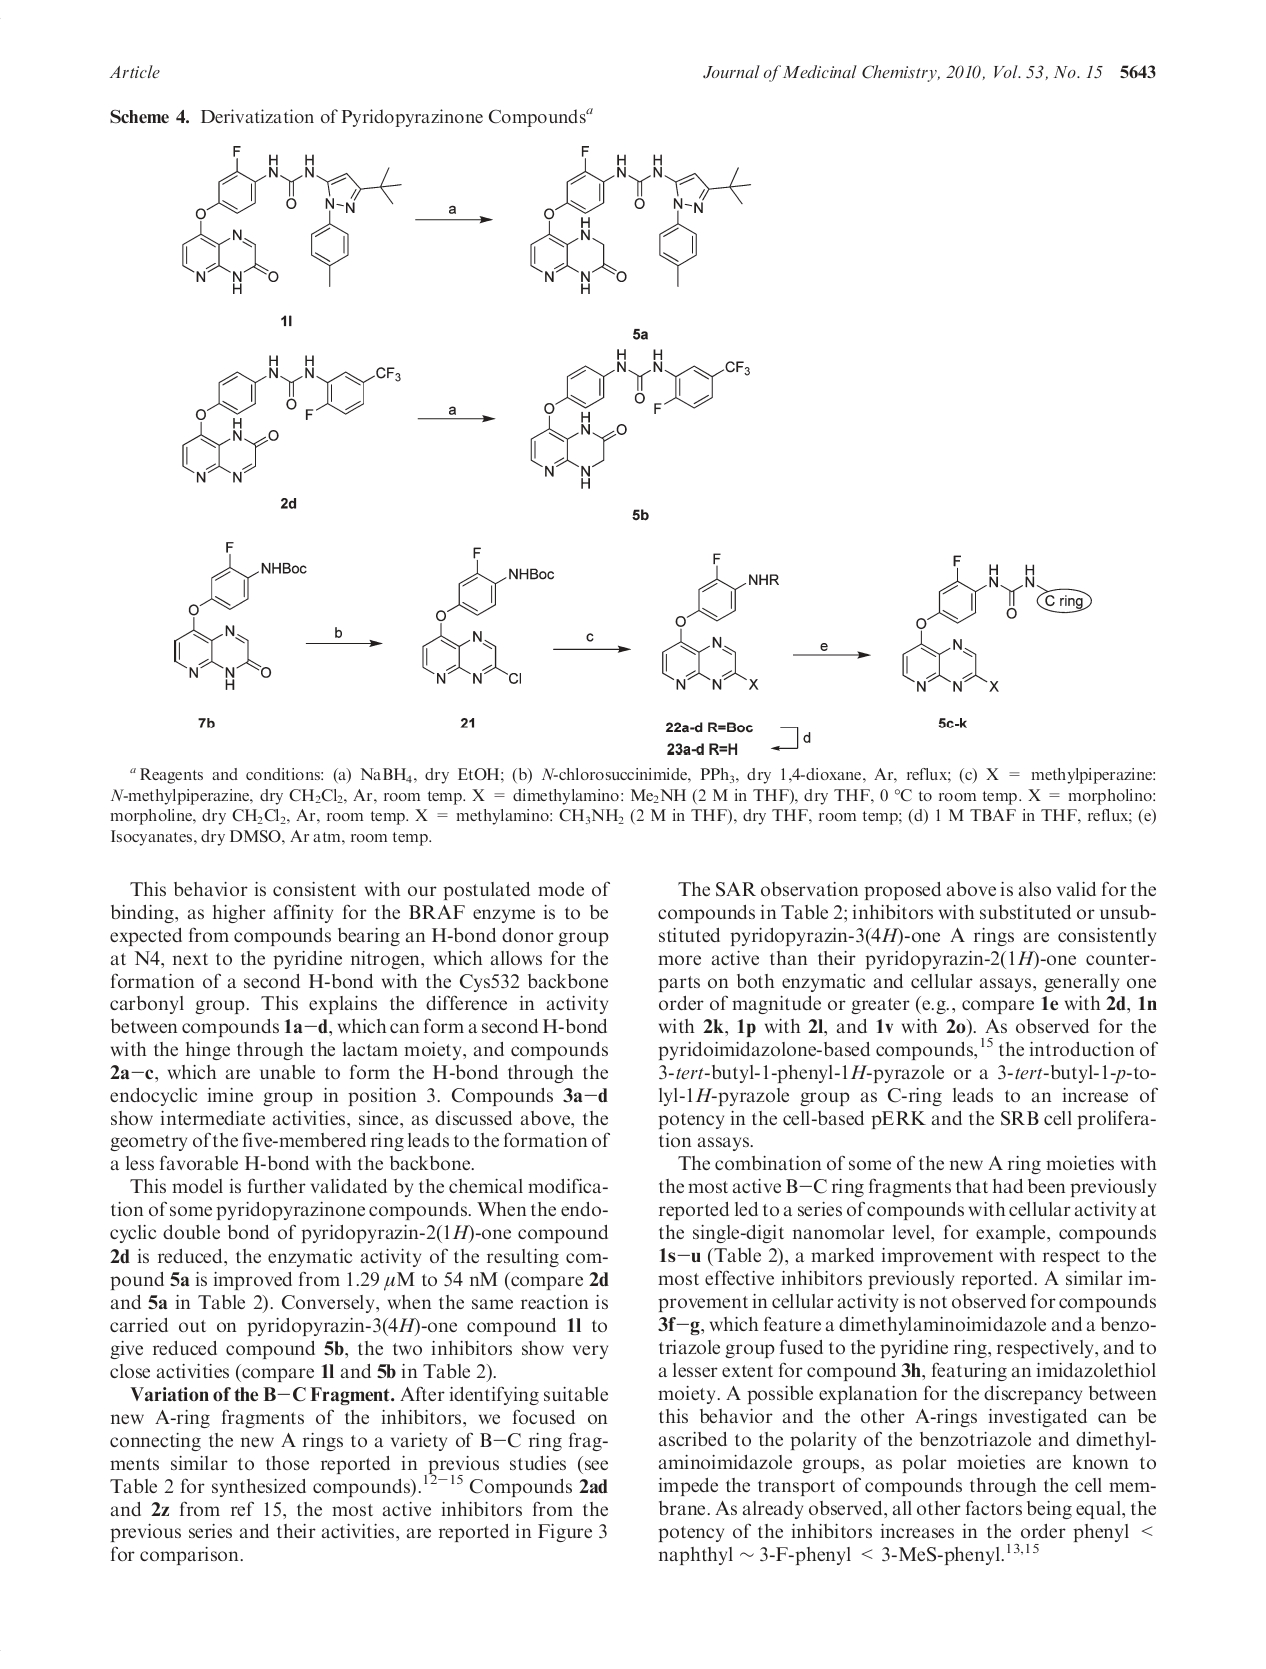exist_molecular: (178, 144, 402, 298), (531, 145, 754, 297), (529, 348, 751, 492), (180, 352, 400, 485), (900, 552, 1093, 694), (173, 540, 313, 694), (420, 543, 559, 689), (661, 551, 783, 692)
